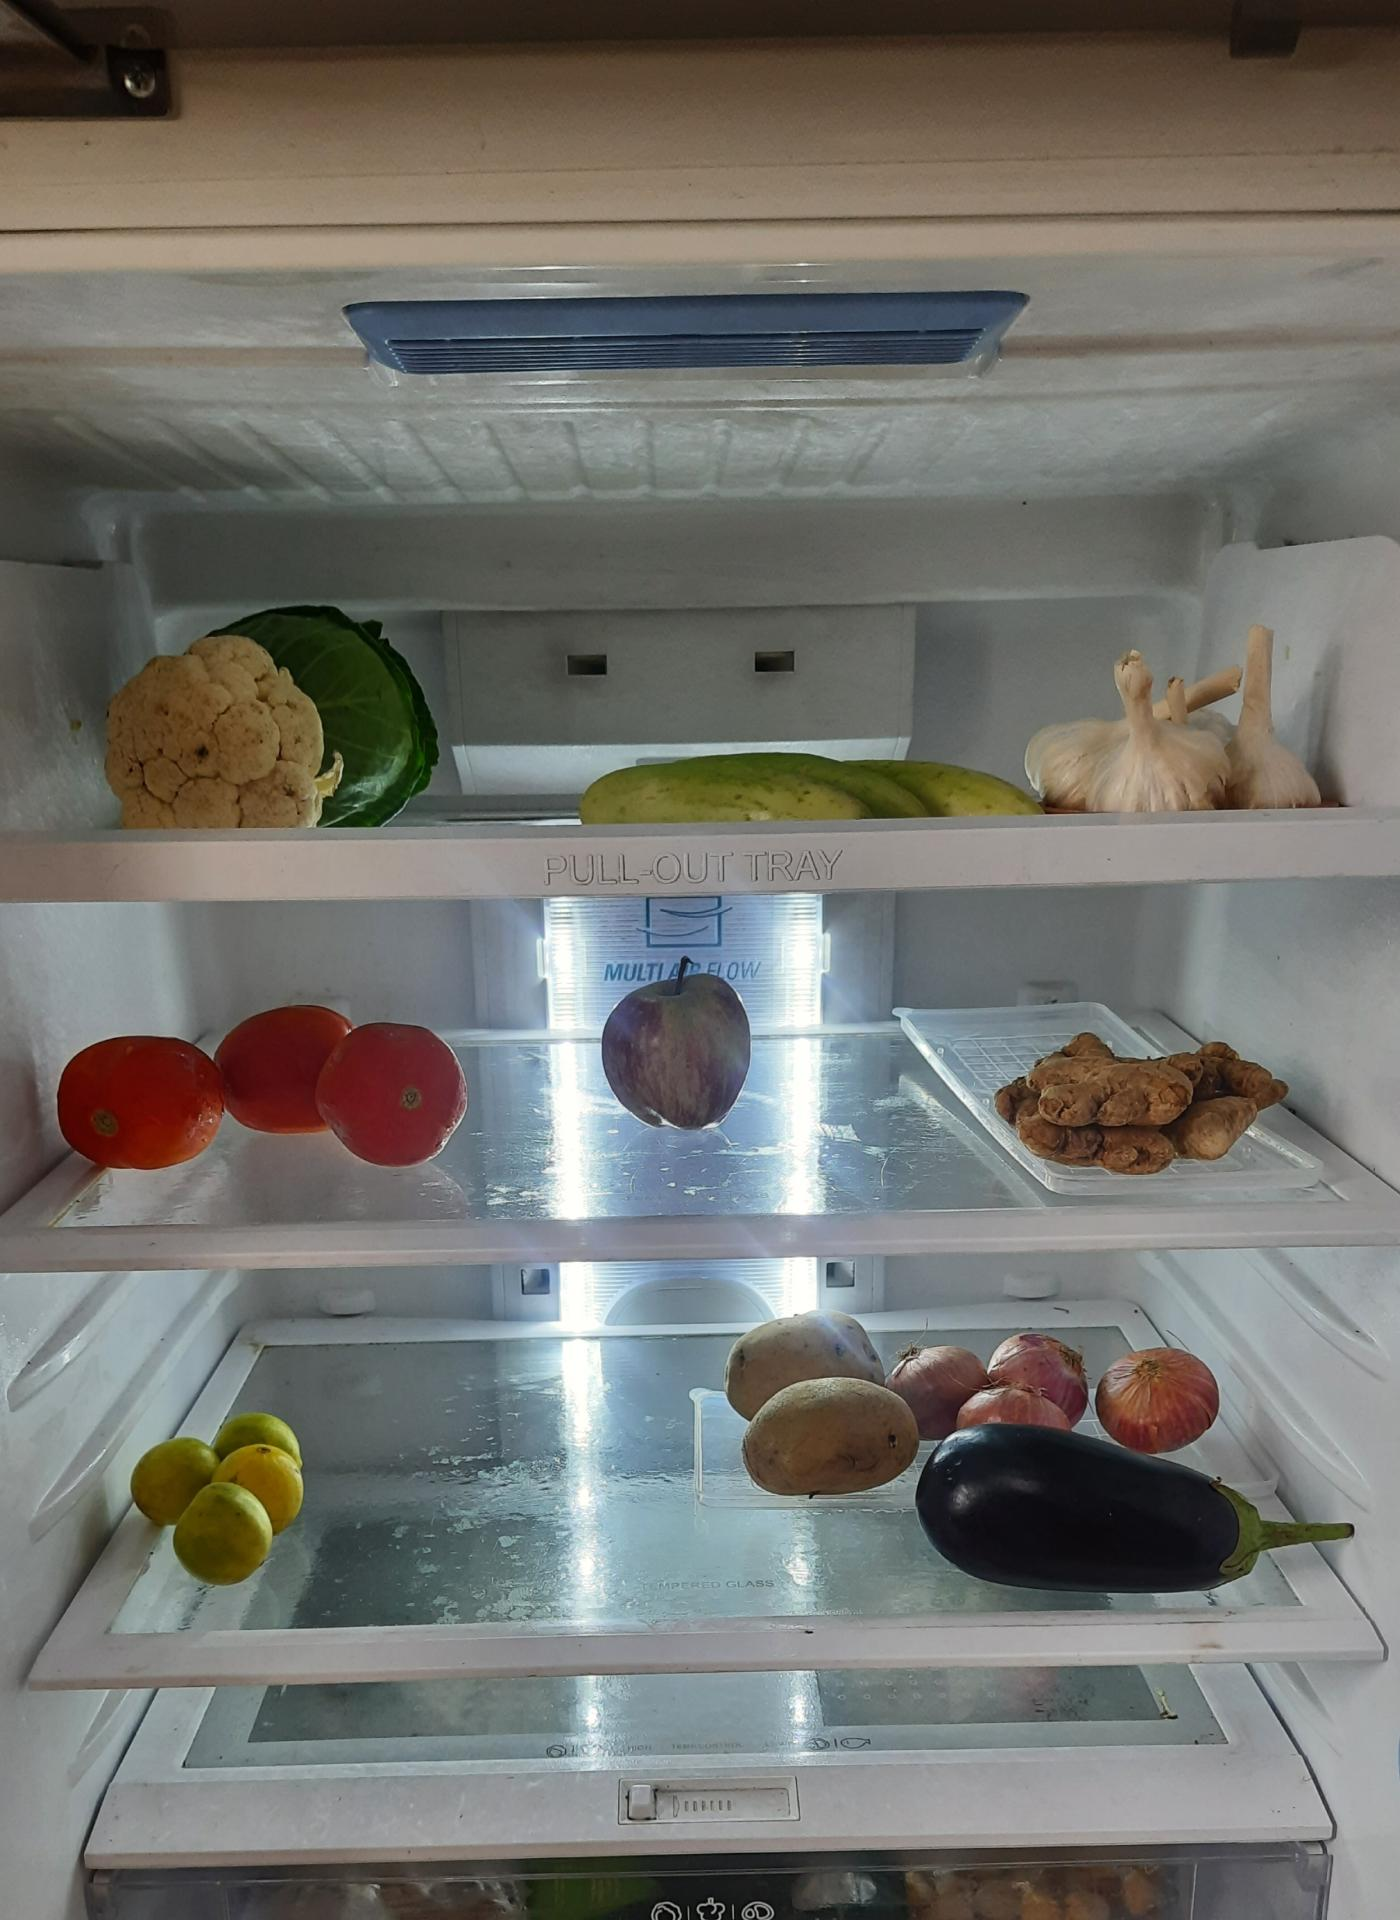apple: (598, 963, 750, 1137)
brinjal: (917, 1424, 1287, 1582)
cabbage: (219, 605, 455, 841)
cauliflower: (103, 626, 332, 839)
cucumber: (567, 750, 1038, 824)
garlic: (1033, 638, 1336, 818)
ginger: (994, 1018, 1294, 1181)
lemon: (130, 1404, 313, 1583)
onion: (895, 1333, 1220, 1443)
potato: (716, 1304, 926, 1492)
tomato: (58, 997, 468, 1166)
